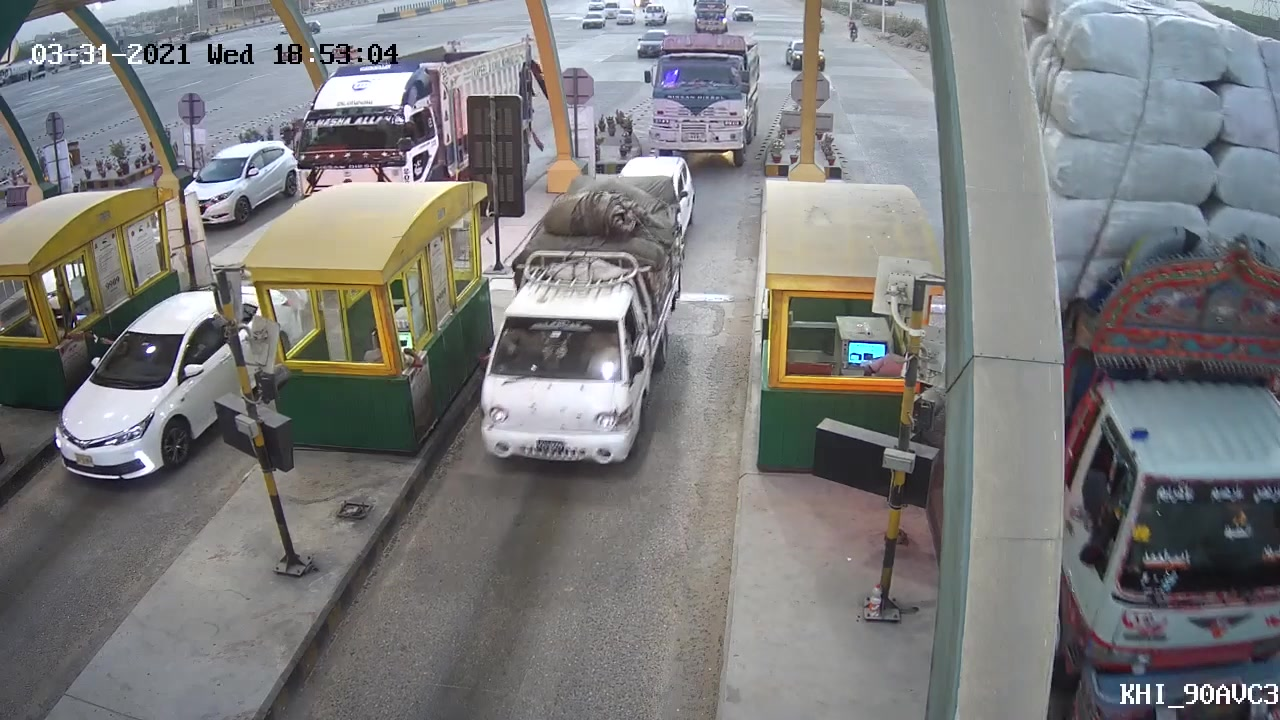F2: (473, 175, 693, 470)
F5: (643, 28, 763, 167)
